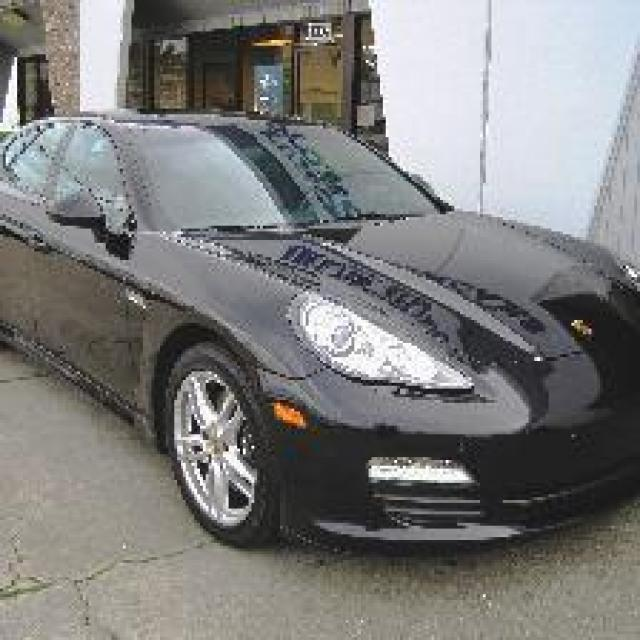damaged: (383, 372, 503, 414)
